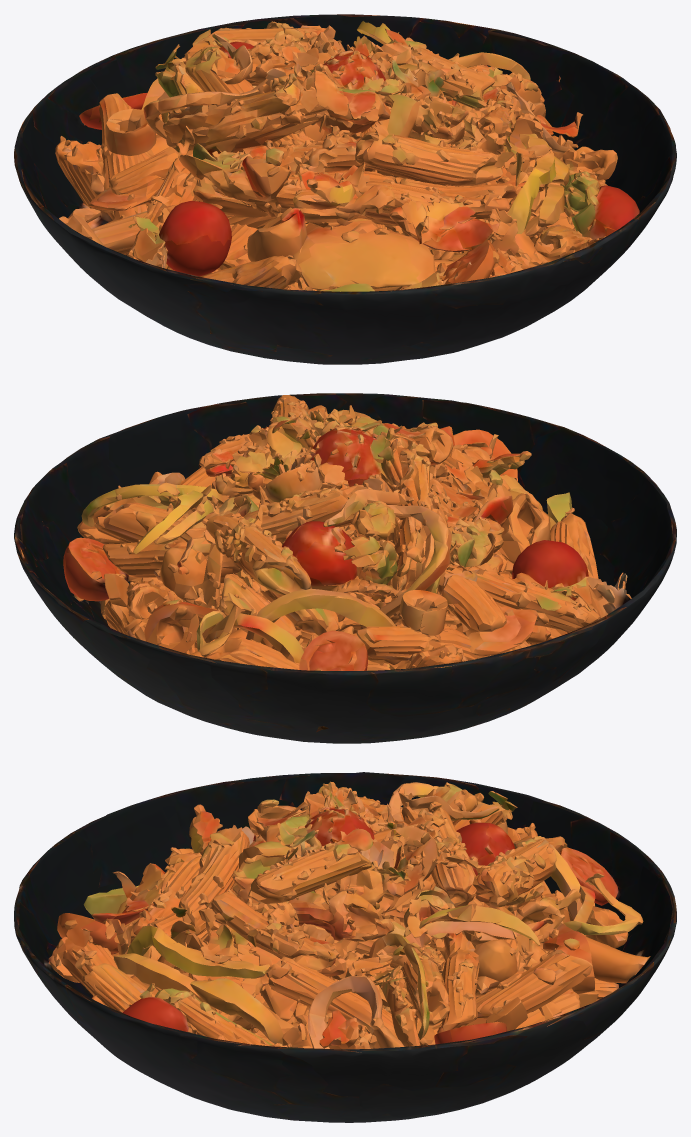
Rendered from arrabbiata.glb.
3 renders of one model, top to bottom at view 1: azimuth 30°, elevation 25°; view 2: azimuth 150°, elevation 25°; view 3: azimuth 270°, elevation 25°, orthographic.
Parts seen in each view (by area): view 1: mesh_node; view 2: mesh_node; view 3: mesh_node.
Boxes of the visible parts, x1=… form: mesh_node: x1=14, y1=14, x2=676, y2=364; mesh_node: x1=14, y1=393, x2=676, y2=743; mesh_node: x1=14, y1=772, x2=676, y2=1122.
Bounding box in the file's own units: 0.26 × 0.1078 × 0.2603.
1 material, 1 textured.
